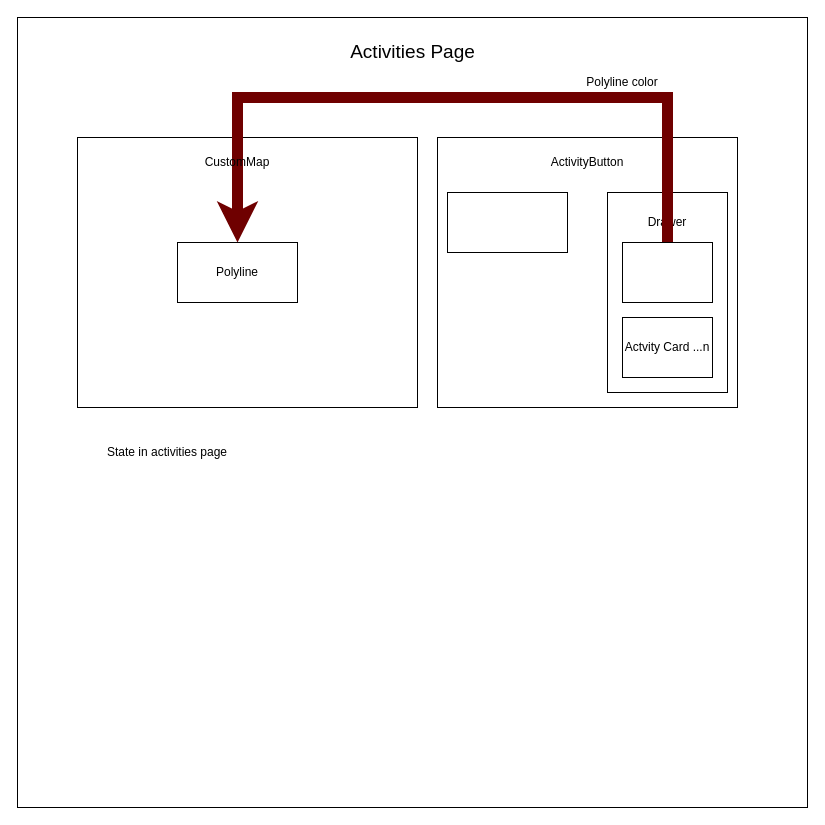
The diagram is 825 pixels wide and 825 high, and some of its shapes have lost their labels. Here are the shapes that lost their labels. From the top down, the centre of each, then its label:
the point at 507,222: Button
the point at 667,272: Actvity Card 1
